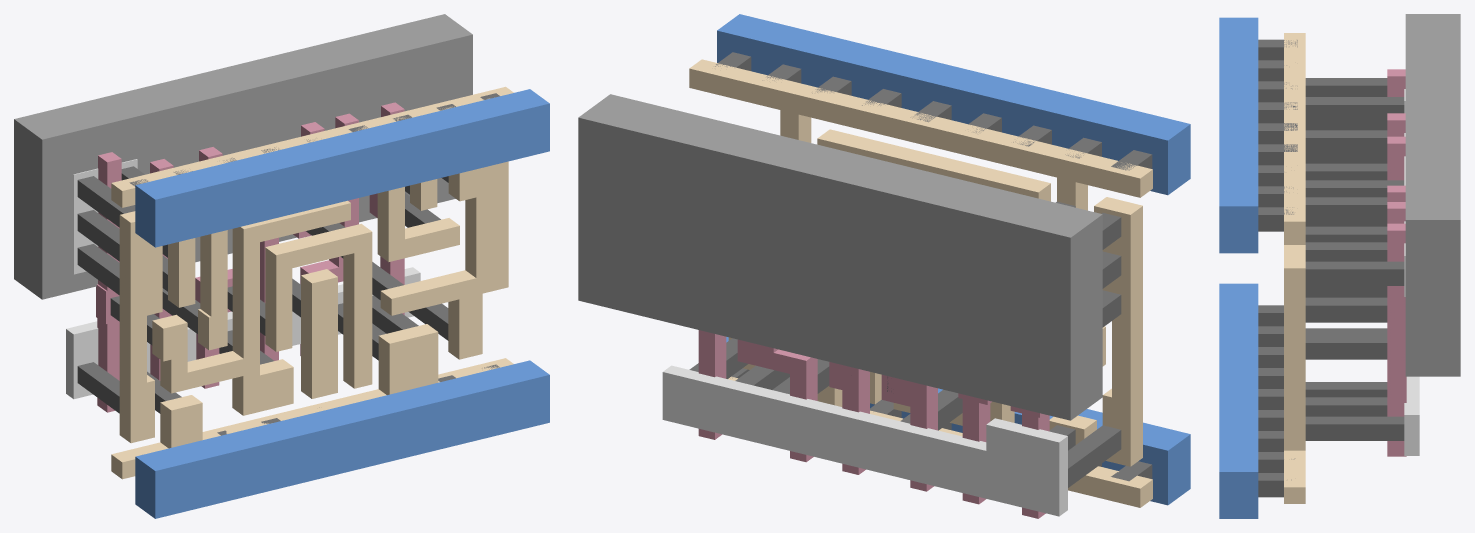
The model's file is sky130_fd_sc_hd__mux2_1.gds.gltf.
3 renders of one model, left to right at view 1: azimuth 30°, elevation 25°; view 2: azimuth 150°, elevation 25°; view 3: azimuth 270°, elevation 25°, orthographic. The views are drawn at different scales.
Visible parts, largest first — view 1: sky130_fd_sc_hd__mux2_1_li1, sky130_fd_sc_hd__mux2_1_met1, sky130_fd_sc_hd__mux2_1_nwell, sky130_fd_sc_hd__mux2_1_licon, sky130_fd_sc_hd__mux2_1_poly, sky130_fd_sc_hd__mux2_1_diff, sky130_fd_sc_hd__mux2_1_mcon; view 2: sky130_fd_sc_hd__mux2_1_nwell, sky130_fd_sc_hd__mux2_1_li1, sky130_fd_sc_hd__mux2_1_met1, sky130_fd_sc_hd__mux2_1_diff, sky130_fd_sc_hd__mux2_1_poly, sky130_fd_sc_hd__mux2_1_licon, sky130_fd_sc_hd__mux2_1_mcon; view 3: sky130_fd_sc_hd__mux2_1_licon, sky130_fd_sc_hd__mux2_1_nwell, sky130_fd_sc_hd__mux2_1_met1, sky130_fd_sc_hd__mux2_1_mcon, sky130_fd_sc_hd__mux2_1_li1, sky130_fd_sc_hd__mux2_1_poly, sky130_fd_sc_hd__mux2_1_diff.
Boxes of the visible parts, <box> form: sky130_fd_sc_hd__mux2_1_li1: <box>111,86,513,479</box>; sky130_fd_sc_hd__mux2_1_met1: <box>135,89,549,518</box>; sky130_fd_sc_hd__mux2_1_nwell: <box>14,14,472,299</box>; sky130_fd_sc_hd__mux2_1_licon: <box>77,166,448,413</box>; sky130_fd_sc_hd__mux2_1_poly: <box>96,102,404,412</box>; sky130_fd_sc_hd__mux2_1_diff: <box>66,159,420,399</box>; sky130_fd_sc_hd__mux2_1_mcon: <box>129,93,499,435</box>; sky130_fd_sc_hd__mux2_1_nwell: <box>578,94,1102,420</box>; sky130_fd_sc_hd__mux2_1_li1: <box>689,59,1152,507</box>; sky130_fd_sc_hd__mux2_1_met1: <box>717,14,1190,505</box>; sky130_fd_sc_hd__mux2_1_diff: <box>662,365,1067,516</box>; sky130_fd_sc_hd__mux2_1_poly: <box>698,330,1049,518</box>; sky130_fd_sc_hd__mux2_1_licon: <box>689,201,1121,487</box>; sky130_fd_sc_hd__mux2_1_mcon: <box>715,52,1152,481</box>; sky130_fd_sc_hd__mux2_1_licon: <box>1305,78,1404,440</box>; sky130_fd_sc_hd__mux2_1_nwell: <box>1405,14,1460,376</box>; sky130_fd_sc_hd__mux2_1_met1: <box>1219,17,1258,518</box>; sky130_fd_sc_hd__mux2_1_mcon: <box>1258,39,1297,497</box>; sky130_fd_sc_hd__mux2_1_li1: <box>1284,33,1305,503</box>; sky130_fd_sc_hd__mux2_1_poly: <box>1387,69,1406,456</box>; sky130_fd_sc_hd__mux2_1_diff: <box>1404,89,1419,455</box>.
Size of the model in its own units: 4.52 by 3.2 by 2.24.
